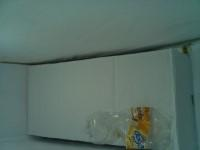bottle: (81, 104, 179, 150)
